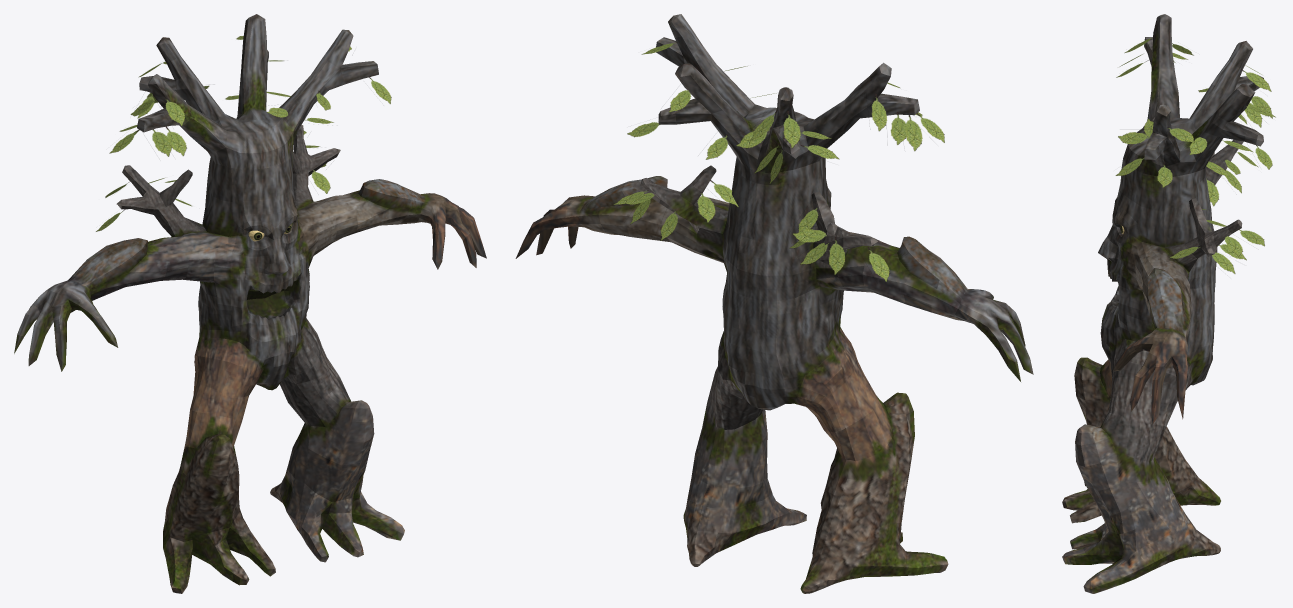
The model's file is treefellow.glb.
3 renders of one model, left to right at view 1: azimuth 30°, elevation 25°; view 2: azimuth 150°, elevation 25°; view 3: azimuth 270°, elevation 25°, orthographic. The views are drawn at different scales.
Parts seen in each view (by area): view 1: Treefellow_body, Treefellow_leafs; view 2: Treefellow_body, Treefellow_leafs; view 3: Treefellow_body, Treefellow_leafs.
Boxes of the visible parts, box(x1,y1,x2,y2) form: Treefellow_body: box(14, 14, 486, 593); Treefellow_leafs: box(96, 36, 391, 231); Treefellow_body: box(515, 14, 1033, 593); Treefellow_leafs: box(613, 42, 944, 281); Treefellow_body: box(1062, 14, 1263, 593); Treefellow_leafs: box(1115, 38, 1275, 273).
Bounding box in the file's own units: 442 × 445 × 182.
Materials: 1 (1 with a texture image).
